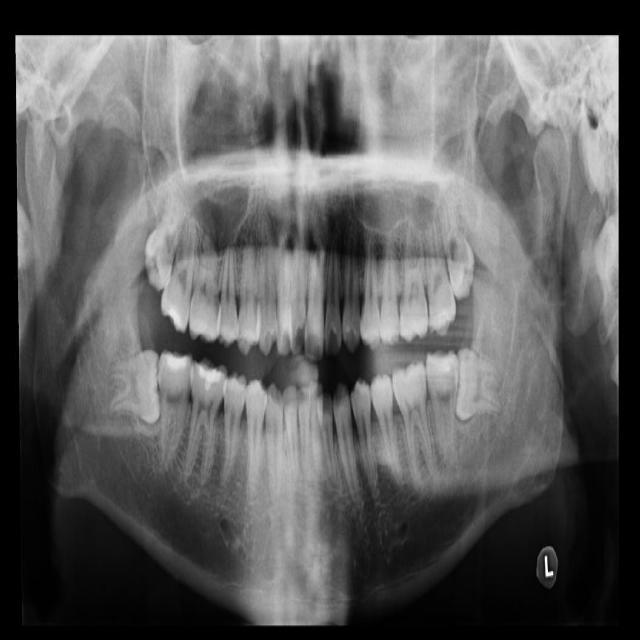3M ESPE Implant: (135, 172, 195, 293)
52: (152, 347, 198, 405), (189, 356, 230, 410)
73: (594, 572, 602, 580)
BioHorizons Implant: (422, 218, 457, 337)
BioLife Implant: (433, 186, 481, 301)
Biomet 3i Implant: (450, 347, 503, 421)
Blue Sky Bio Implant: (424, 349, 465, 466)
Caries: (158, 207, 200, 334)
Implant: (145, 347, 197, 464)
Keystone Dental Implant: (106, 349, 164, 426)
